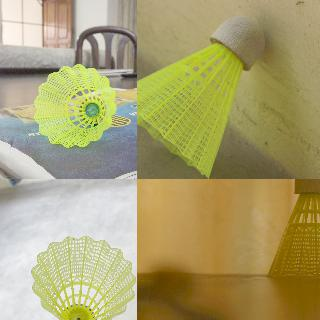shuttlecock: (137, 16, 264, 178), (31, 235, 135, 319), (34, 64, 116, 146), (268, 179, 319, 277)
